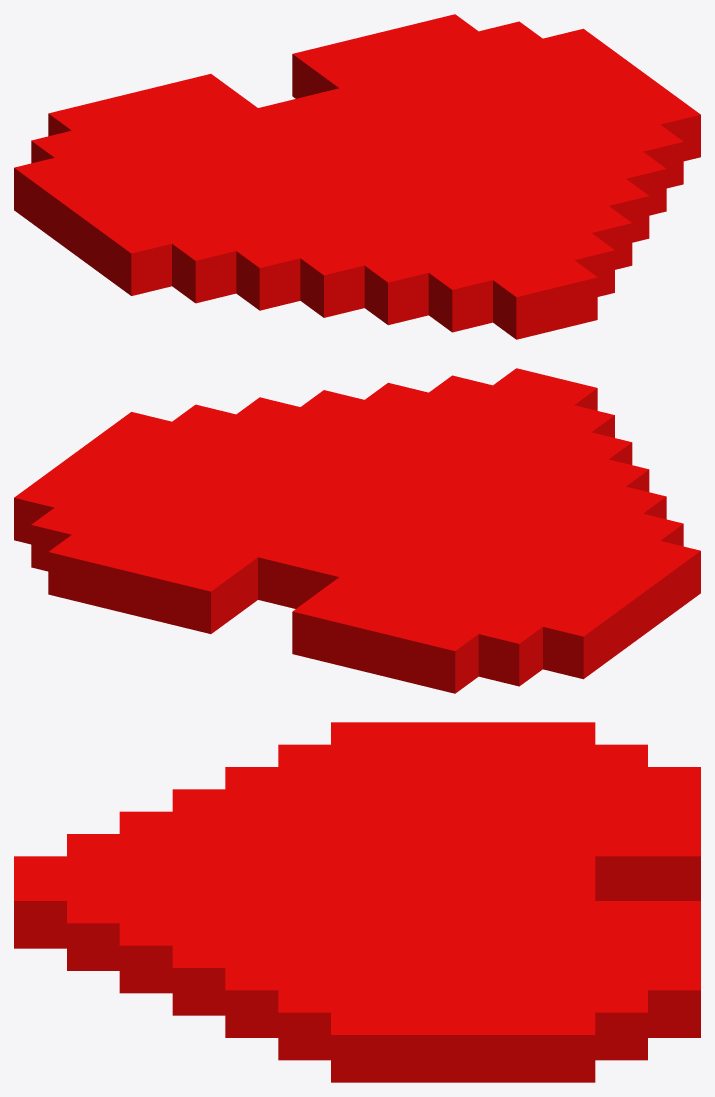
Rendered from heartModel.obj.
The picture shows the model from 3 angles, top to bottom: view 1: azimuth 30°, elevation 25°; view 2: azimuth 150°, elevation 25°; view 3: azimuth 270°, elevation 25°; orthographic projection. The views are drawn at different scales.
Size of the model in its own units: 1.4 by 0.1 by 1.3.
1 material, 1 textured.
